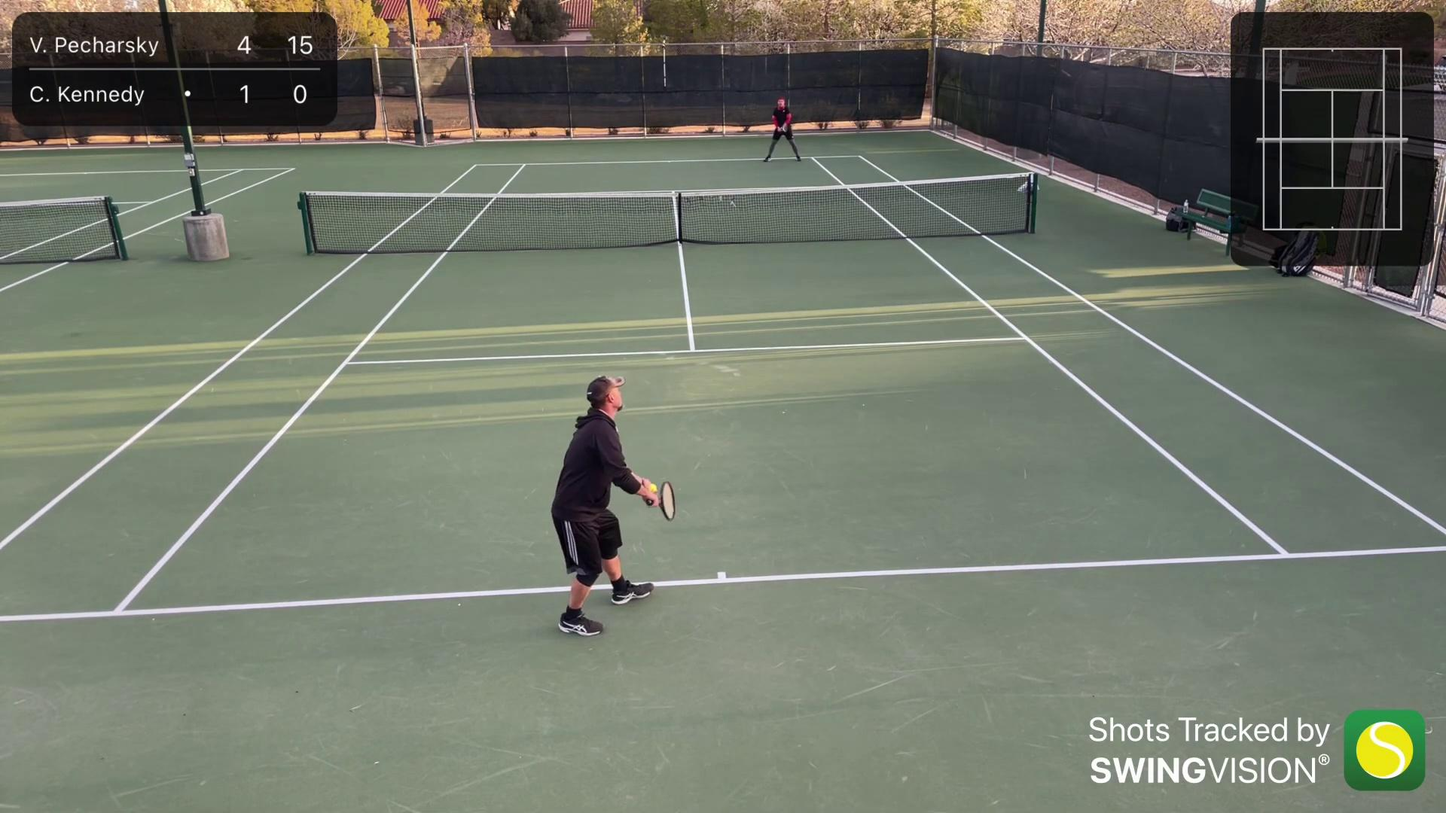ball: (649, 482, 660, 494)
